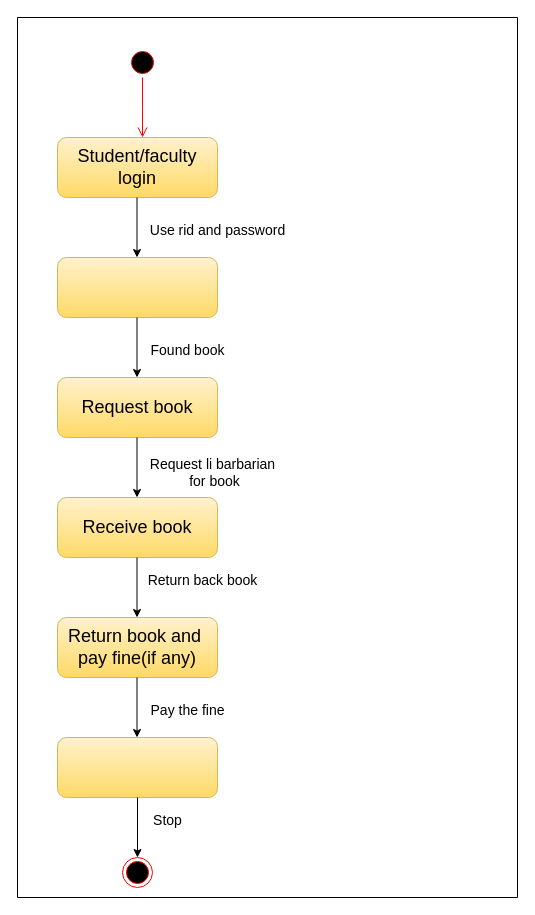
Image size: 535x915. Some labels were removed from this diagram. The box of each missing label's shape, as (x1, y1, x2, y2) in pixels:
Profile update and sign-out: (56, 736, 218, 798)
Search book: (56, 256, 218, 318)
